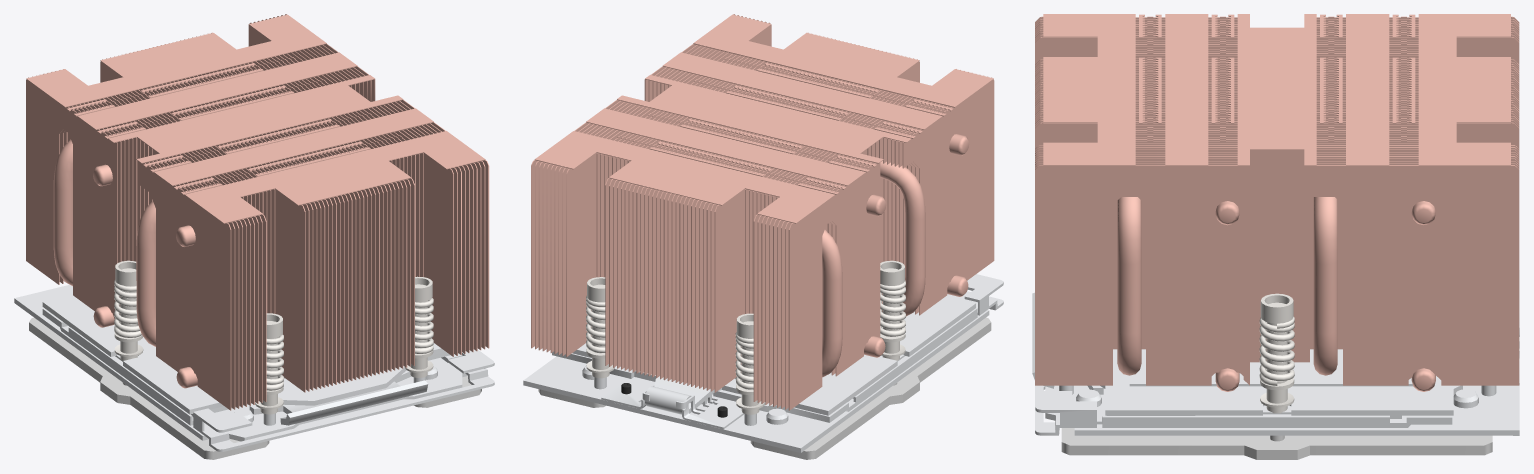
Rendered from cosmo-heatsink-0.glb.
3 views of the same model, side by side, from view 1: azimuth 30°, elevation 25°; view 2: azimuth 150°, elevation 25°; view 3: azimuth 270°, elevation 25° (orthographic). The views are drawn at different scales.
Visible parts, largest first — view 1: Cube.077, Cube.010, OXC991-0000150_sm-SHARKFIN BRACKET, COSMO.013, Cube.020, Cube.049, Plane.014, NurbsPath.007, NurbsPath.005, Cylinder.007, Cube.011, Cylinder.006, Cube.012 (+52 smaller); view 2: Cube.077, Cube.010, OXC991-0000150_sm-SHARKFIN BRACKET, COSMO.013, Cube.020, Cube.049, Plane.014, NurbsPath.005, NurbsPath.007, Cylinder.007, Cylinder.004, Cylinder.003, Cube.018 (+54 smaller); view 3: Cube.058, Cube.077, OXC991-0000150_sm-SHARKFIN BRACKET, COSMO.013, Cube.076, Plane.014, NurbsPath.006, NurbsPath.004, Cylinder.008, Cube.048, Cube.019, NurbsPath.005, NurbsPath.007 (+2 smaller).
Part boxes in pixels (box(x1,y1,x2,y2)): Cube.077: box(26, 14, 485, 223); Cube.010: box(26, 77, 231, 410); OXC991-0000150_sm-SHARKFIN BRACKET, COSMO.013: box(14, 284, 494, 451); Cube.020: box(100, 59, 305, 392); Cube.049: box(248, 22, 453, 356); Plane.014: box(29, 317, 481, 459); NurbsPath.007: box(53, 139, 72, 286); NurbsPath.005: box(136, 201, 155, 346); Cylinder.007: box(114, 260, 143, 360); Cube.011: box(32, 76, 235, 409); Cylinder.006: box(404, 276, 433, 377); Cube.012: box(36, 75, 239, 408); Cube.077: box(534, 14, 993, 223); Cube.010: box(788, 77, 994, 410); OXC991-0000150_sm-SHARKFIN BRACKET, COSMO.013: box(523, 274, 1003, 452); Cube.020: box(714, 59, 919, 392); Cube.049: box(566, 22, 771, 356); Plane.014: box(538, 317, 991, 459); NurbsPath.005: box(880, 161, 925, 316); NurbsPath.007: box(822, 230, 842, 377); Cylinder.007: box(880, 260, 905, 360); Cylinder.004: box(586, 277, 614, 378); Cylinder.003: box(735, 313, 764, 414); Cube.018: box(757, 70, 960, 402); Cube.058: box(1035, 165, 1519, 385); Cube.077: box(1043, 14, 1510, 165); OXC991-0000150_sm-SHARKFIN BRACKET, COSMO.013: box(1032, 270, 1519, 435); Cube.076: box(1113, 143, 1418, 362); Plane.014: box(1061, 428, 1492, 459); NurbsPath.006: box(1313, 197, 1337, 375); NurbsPath.004: box(1117, 197, 1141, 375); Cylinder.008: box(1259, 293, 1294, 413); Cube.048: box(1035, 120, 1519, 148); Cube.019: box(1035, 35, 1519, 64); NurbsPath.005: box(1215, 201, 1239, 391); NurbsPath.007: box(1411, 201, 1435, 391).
Bounding box in the file's own units: 0.0976 × 0.0769 × 0.1188.
